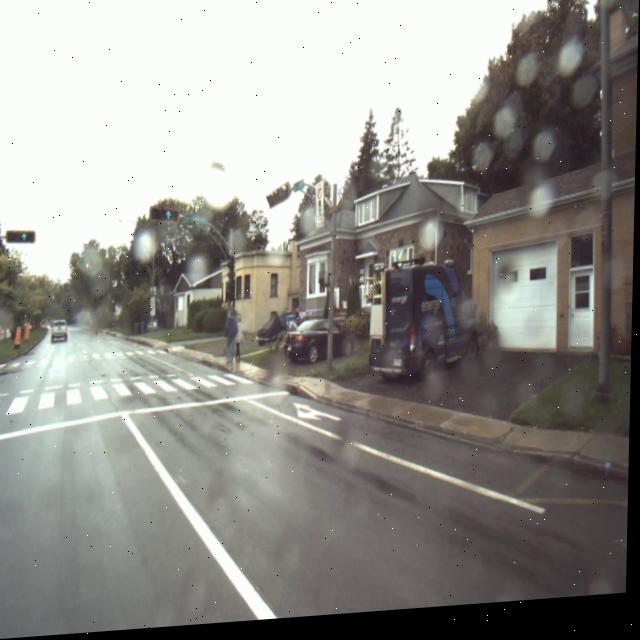car: (285, 321, 355, 372), (52, 320, 70, 345)
pedestrian: (226, 311, 239, 376), (238, 321, 246, 371)
trafficLight: (269, 186, 290, 215)
trafficLight-Green: (163, 211, 177, 225), (19, 230, 30, 244)
